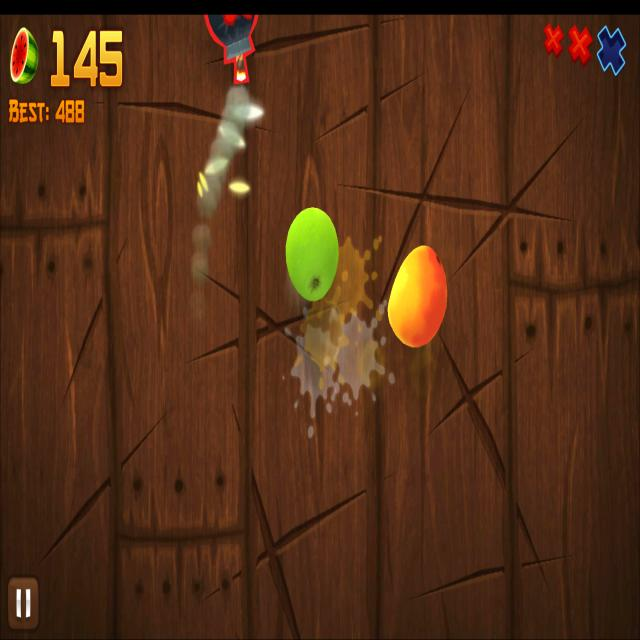bomb: (204, 14, 258, 84)
fruit: (388, 245, 448, 346), (285, 207, 339, 301)
